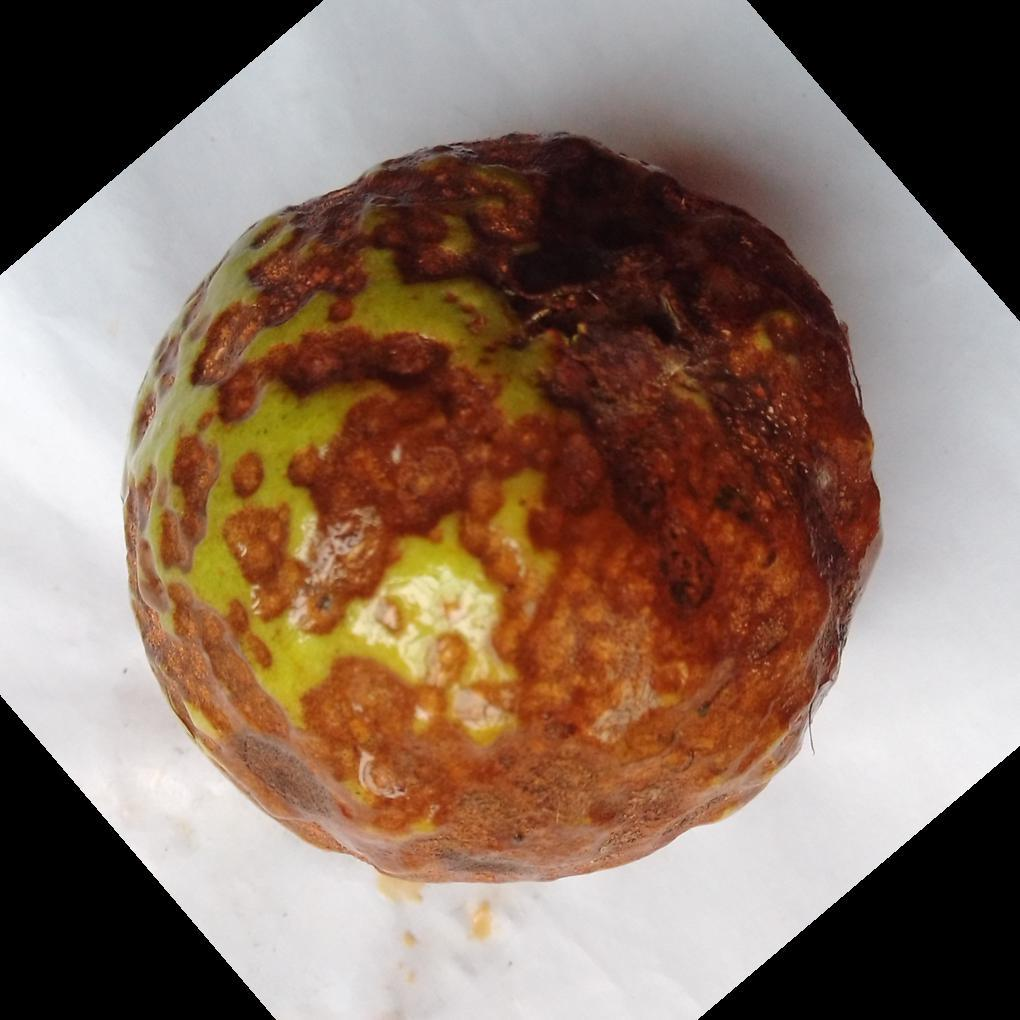FreshOrange: (120, 133, 884, 893)
